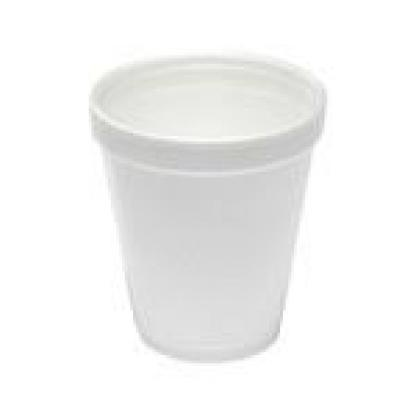trash: (90, 57, 325, 360)
